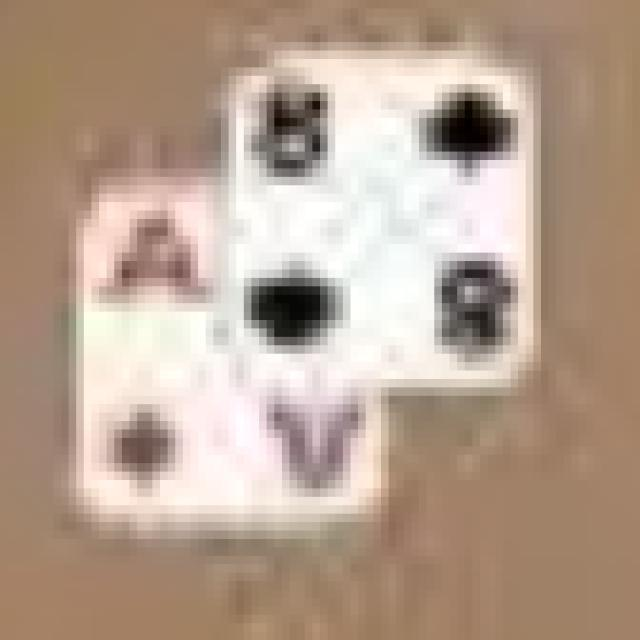Card-8: (236, 68, 543, 396)
Card-A: (78, 192, 388, 526)
